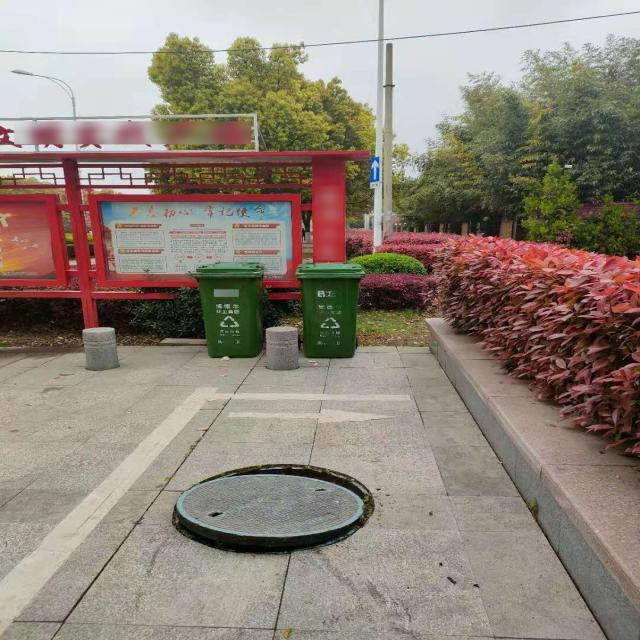Faulty: (171, 463, 377, 554)
